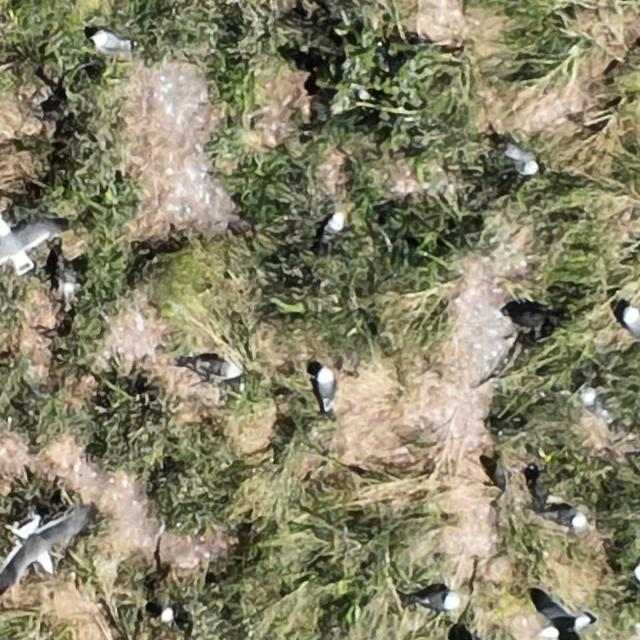F: (9, 510, 80, 581), (4, 216, 48, 276), (532, 595, 592, 637)
umineko: (584, 386, 615, 419), (154, 581, 178, 621), (200, 360, 242, 379), (508, 148, 536, 174), (315, 368, 334, 404), (546, 509, 584, 527), (421, 591, 456, 610), (92, 31, 125, 50), (322, 213, 343, 239), (623, 307, 639, 338)
